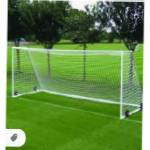goals: (11, 45, 142, 119)
